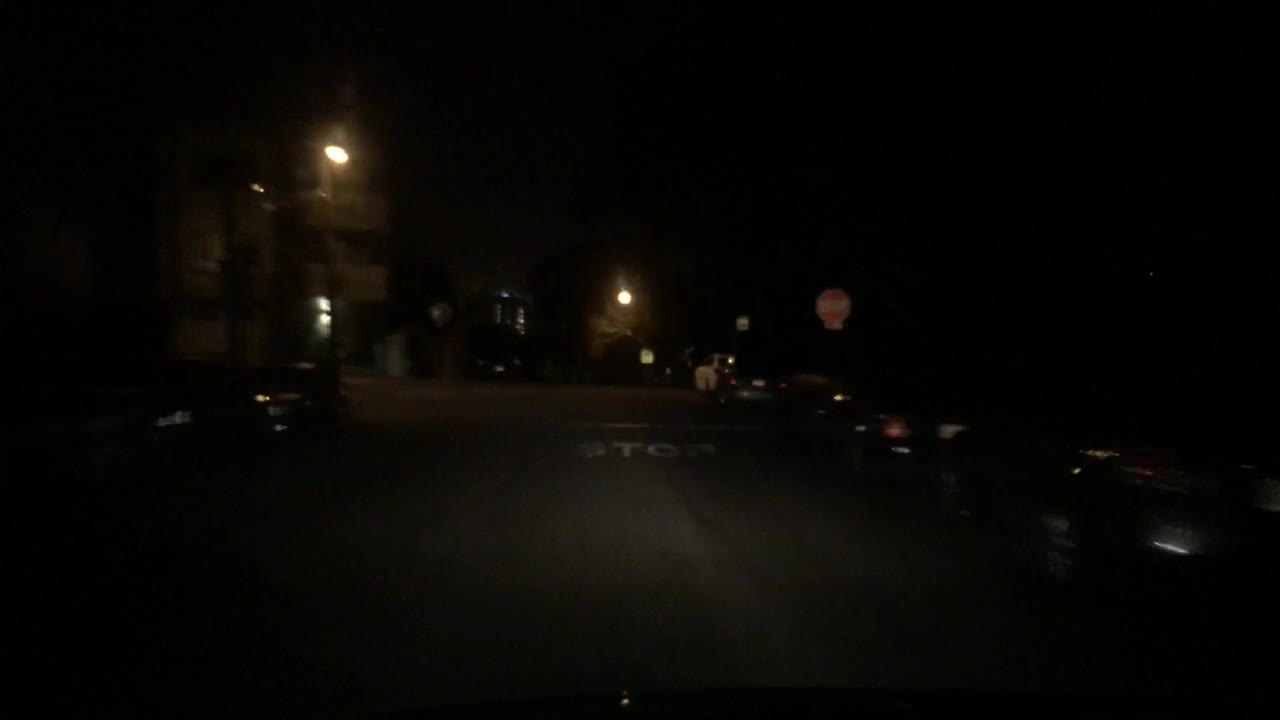car: (925, 395, 1278, 630), (811, 379, 927, 486), (242, 357, 349, 459), (713, 354, 790, 408), (657, 342, 702, 389), (472, 346, 525, 382), (693, 350, 731, 398)
traffic sign: (814, 287, 850, 330), (640, 347, 653, 365), (735, 316, 748, 330)
